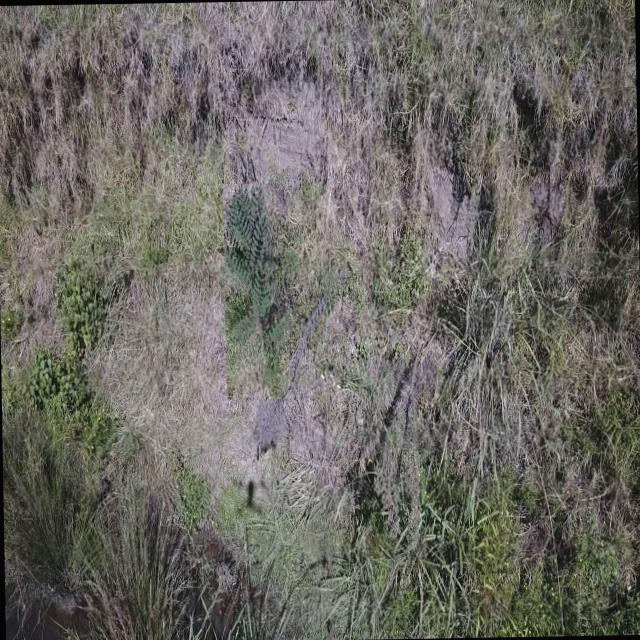Mysore-Thorn-Weed: (223, 182, 291, 400)
